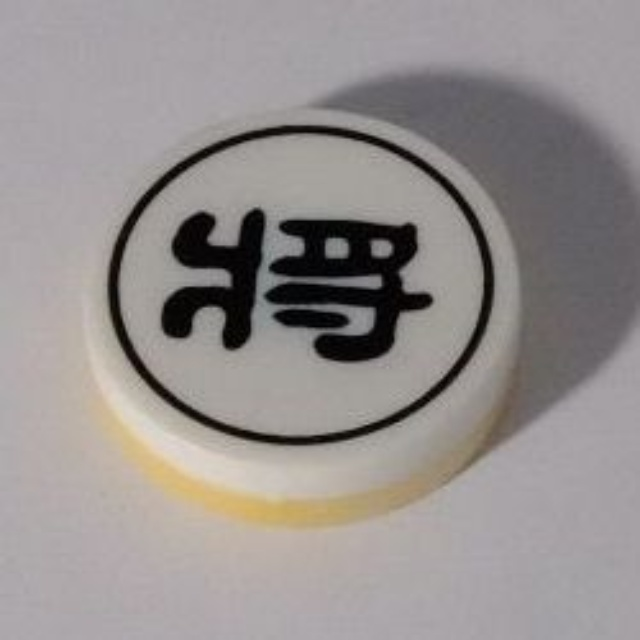black_tuong: (74, 105, 534, 526)
